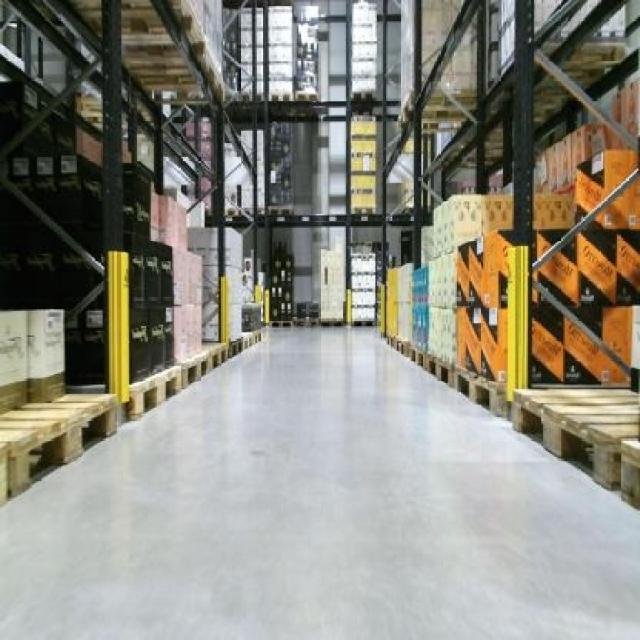floor: (0, 326, 637, 637)
pallets: (380, 0, 637, 500), (383, 263, 408, 337)
